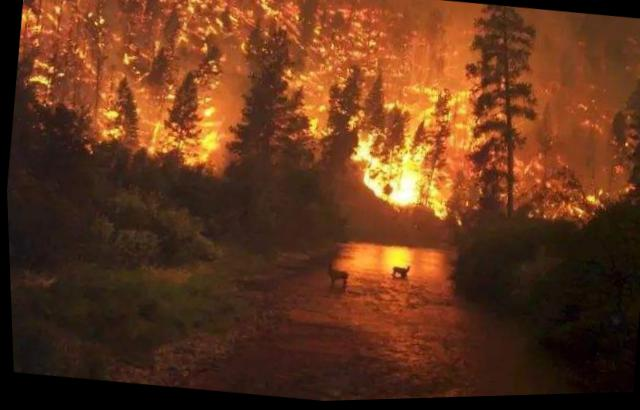fire: (4, 0, 639, 249)
